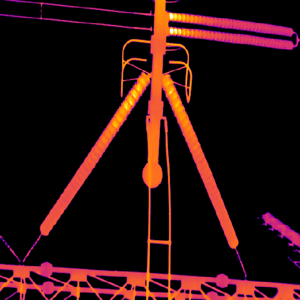insulator: (39, 70, 150, 236), (161, 71, 239, 248), (167, 10, 236, 43)
